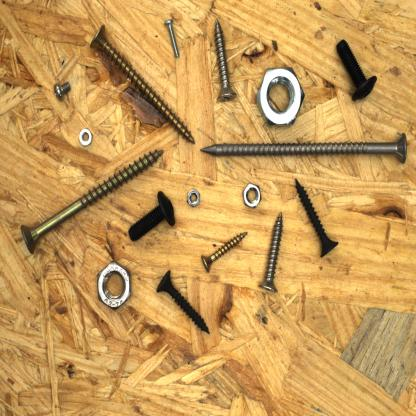screw: (18, 147, 167, 257), (88, 22, 197, 146), (199, 130, 410, 166), (292, 174, 340, 258), (155, 267, 211, 336), (334, 38, 379, 104), (127, 189, 180, 243), (256, 208, 286, 295), (199, 228, 251, 274), (213, 15, 239, 104), (164, 17, 181, 58), (53, 78, 72, 101)
